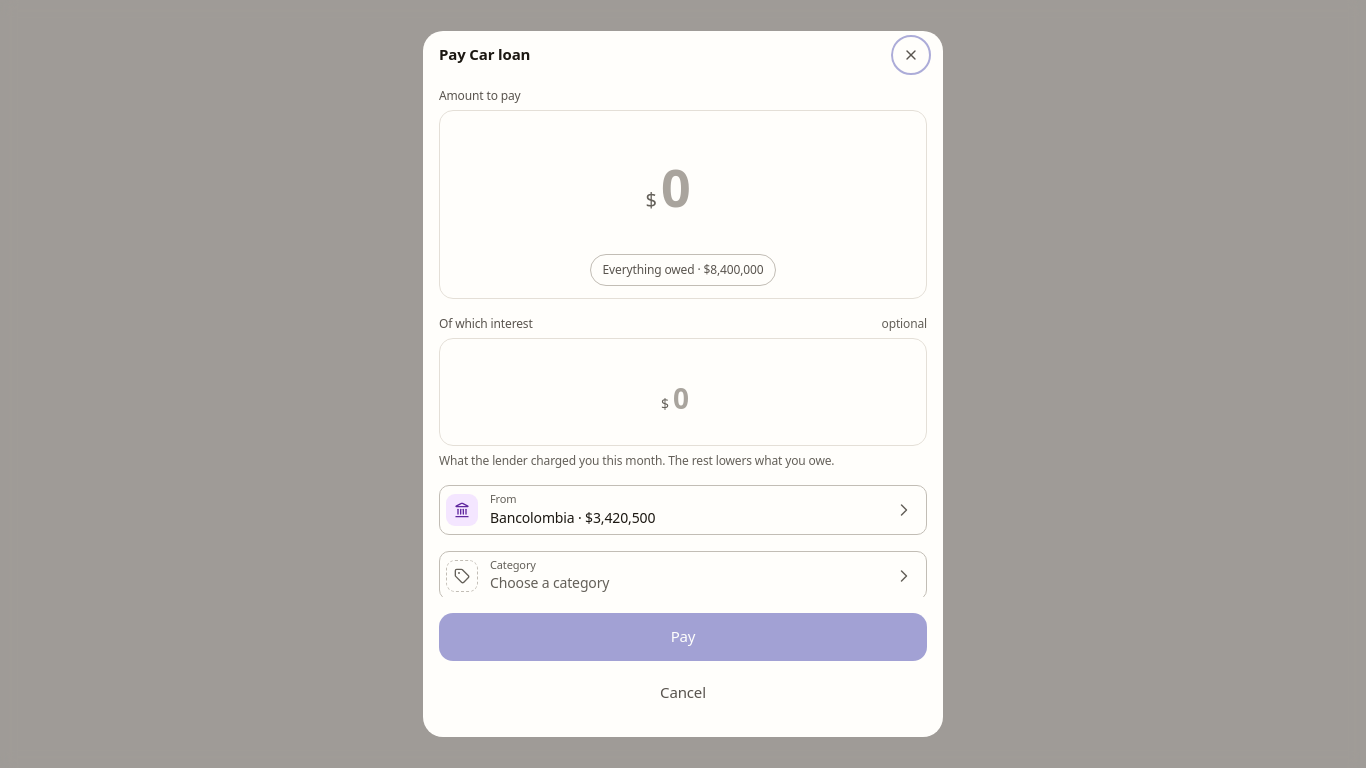
Test case: the instalment split (T-94) › everything owed means the loan ends at zero, with the interest on top
In the field labelled "Of which interest": (689, 398) [673,379,705,417], type "126000"
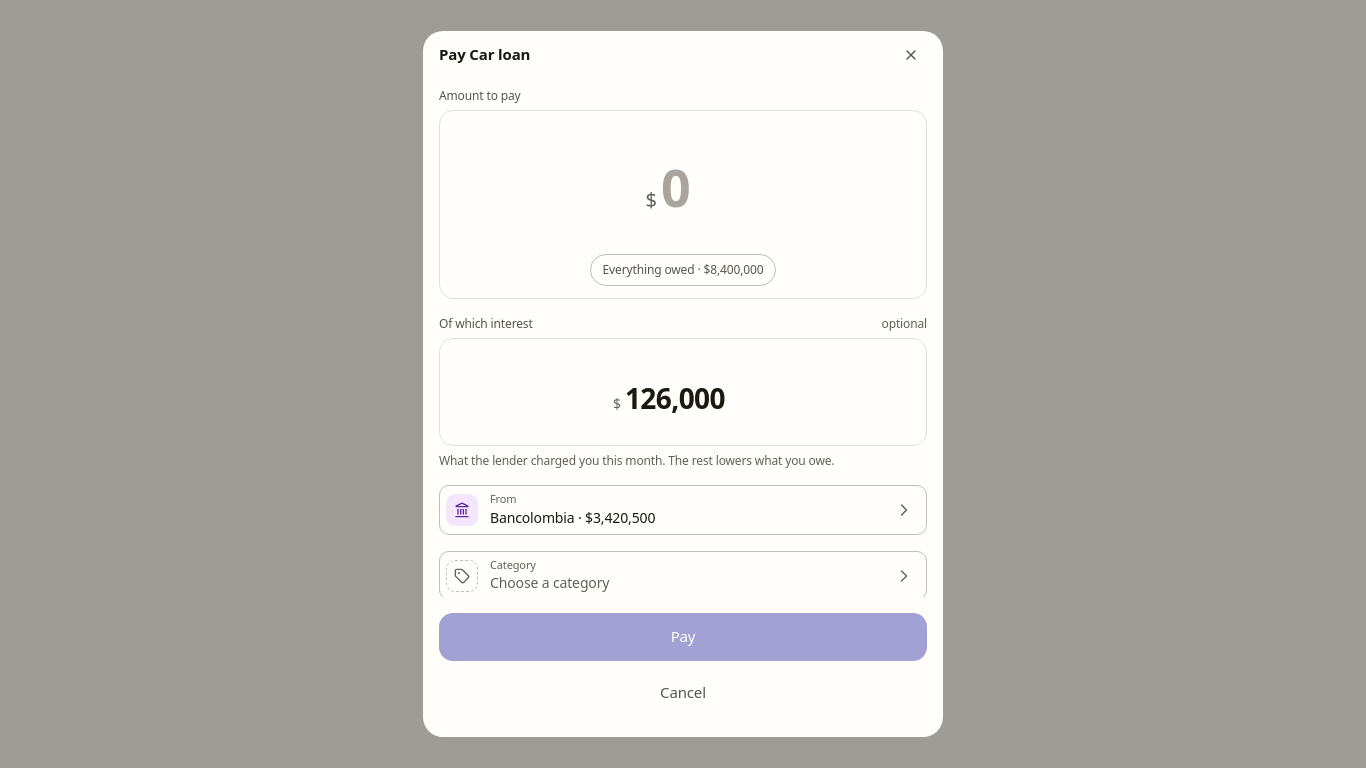
Click the button "Everything owed · $8,400,000": (683, 270) [590,254,776,286]
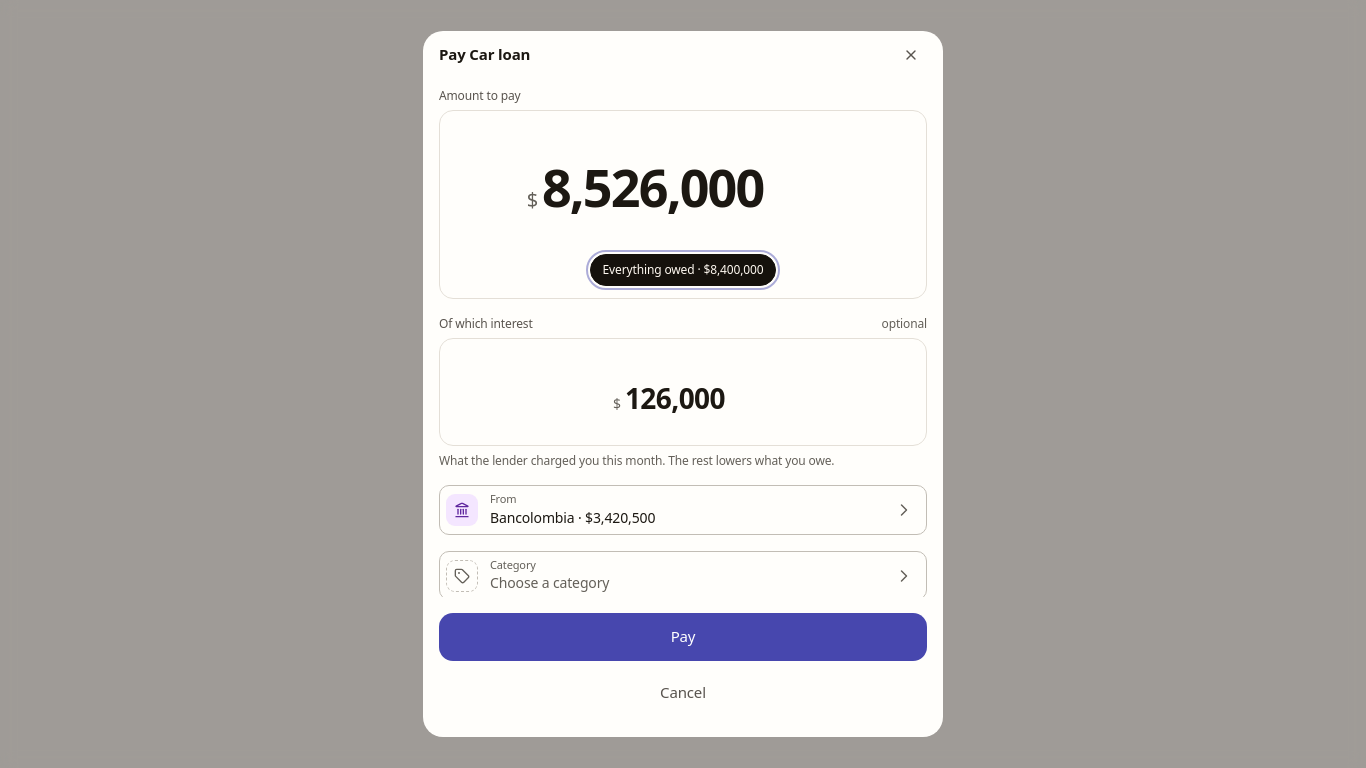
Check: the field labelled "Amount to pay" holds "8,526,000", box [542,151,839,222]
